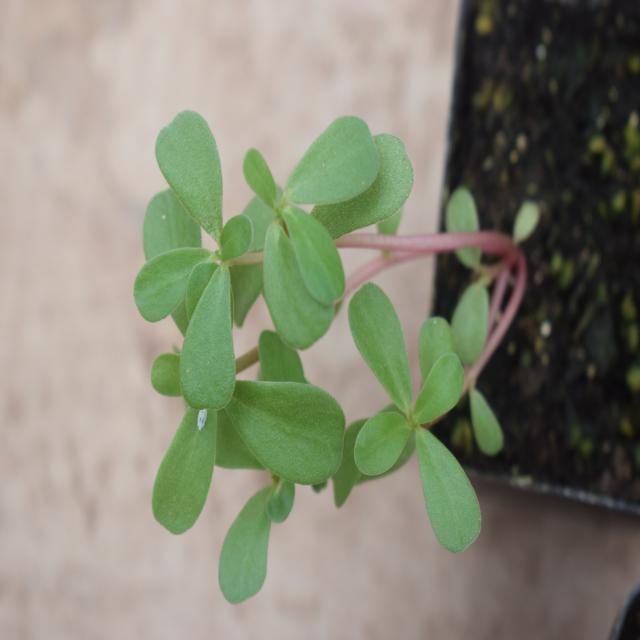purslane: (112, 101, 518, 576)
